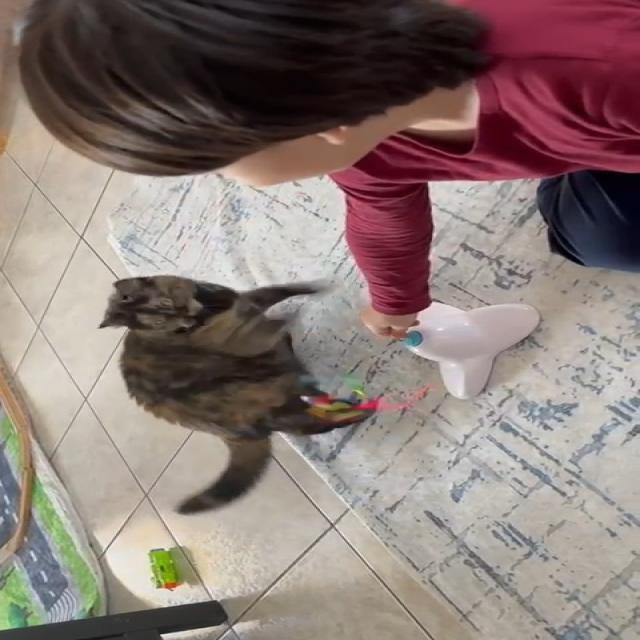authorized: (96, 274, 376, 515)
